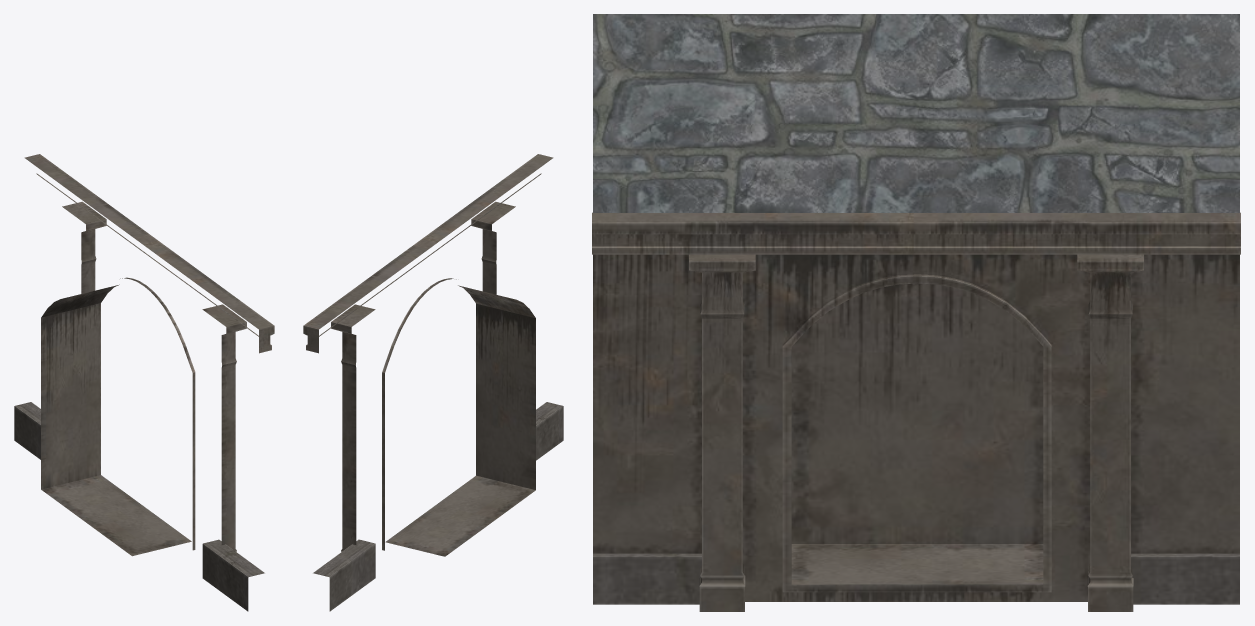
File: SM_Dungeon_Wall_Decorative_D.glb
3 renders of one model, left to right at view 1: azimuth 30°, elevation 25°; view 2: azimuth 150°, elevation 25°; view 3: azimuth 270°, elevation 25°, orthographic. The views are drawn at different scales.
Visible parts, largest first — view 1: SM_Dungeon_Wall_Decorative_D; view 2: SM_Dungeon_Wall_Decorative_D; view 3: SM_Dungeon_Wall_Decorative_D.
Boxes of the visible parts, x1=… form: SM_Dungeon_Wall_Decorative_D: x1=14, y1=154, x2=274, y2=611; SM_Dungeon_Wall_Decorative_D: x1=303, y1=154, x2=563, y2=611; SM_Dungeon_Wall_Decorative_D: x1=592, y1=14, x2=1240, y2=611.
Bounding box in the file's own units: 1.15 × 6 × 6.02.
3 materials, 3 textured.
